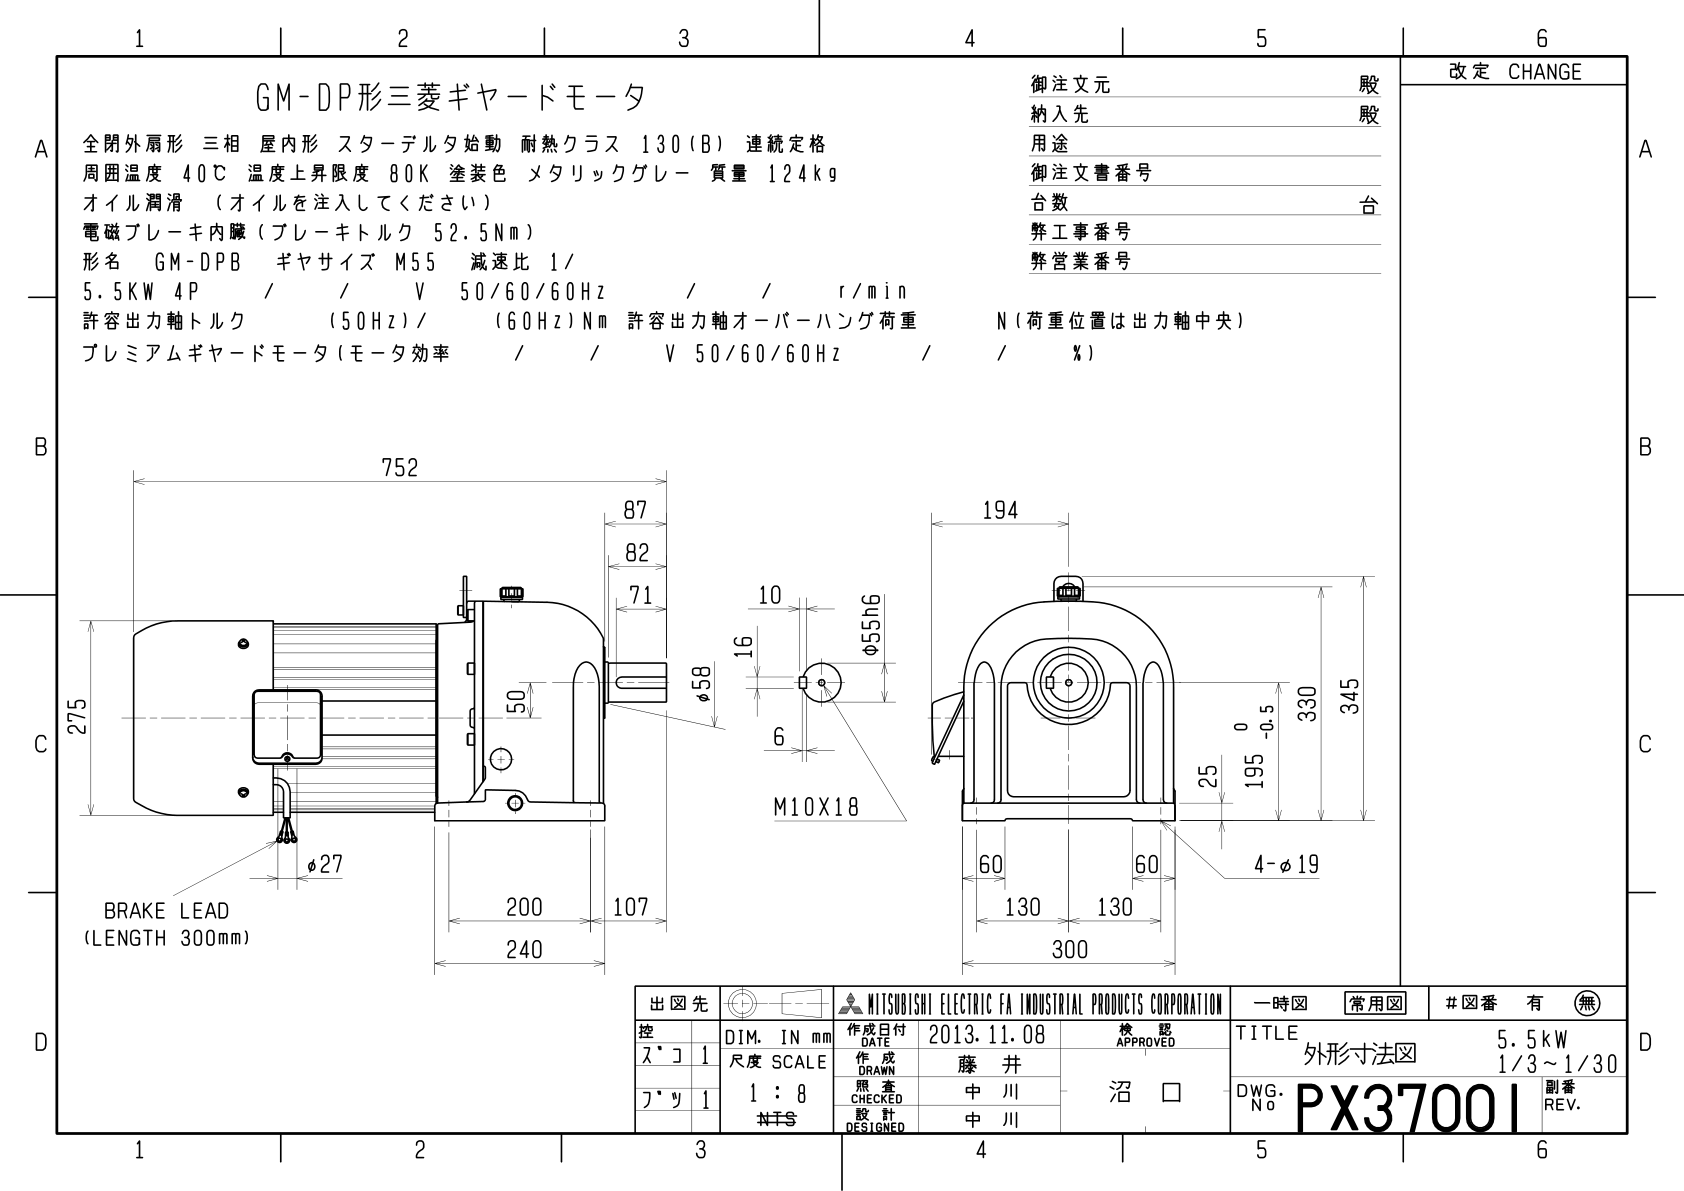GM_DP_屋内_三相_脚: (63, 412, 1379, 980)
